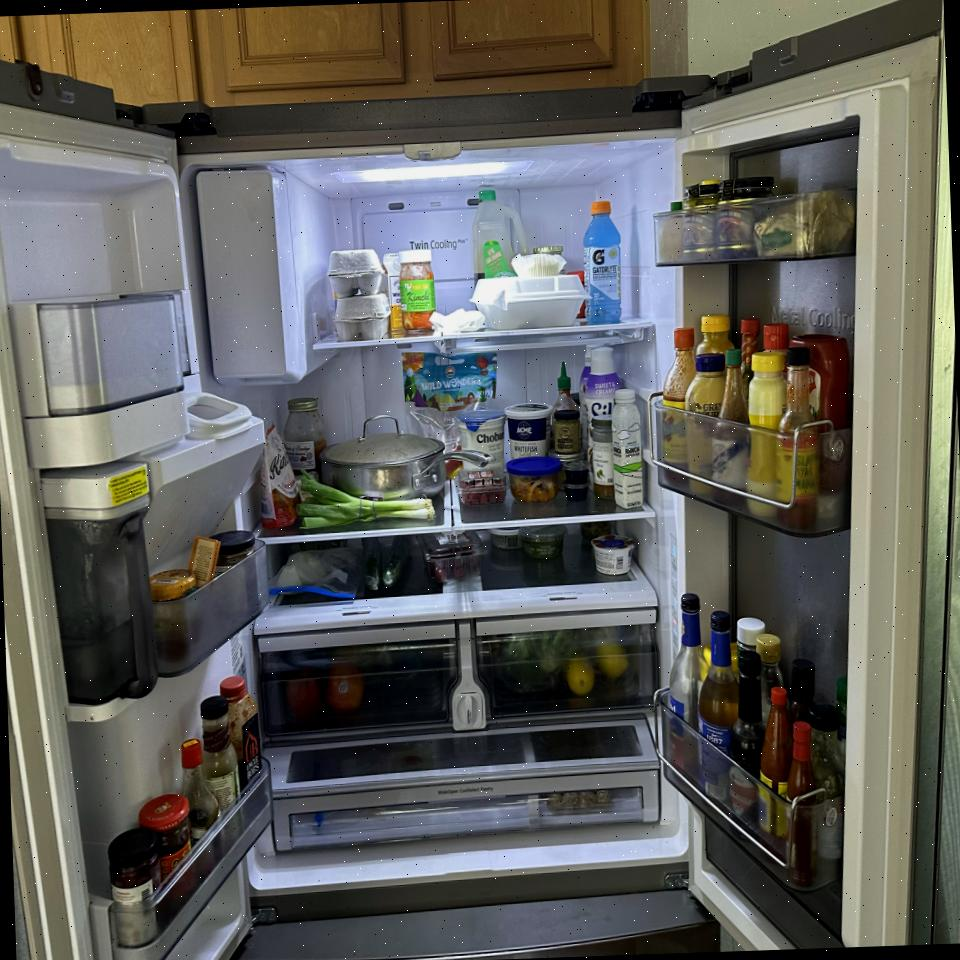Huevos: (327, 248, 384, 297), (334, 295, 392, 341)
Limón: (597, 641, 630, 679), (567, 658, 595, 695)
Mantequilla: (754, 192, 856, 256)
Manzana: (286, 674, 320, 720), (329, 668, 363, 712)
Pepino: (382, 535, 411, 588), (363, 539, 383, 592)
Yogur: (454, 408, 508, 476)
